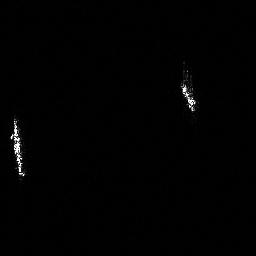ship: (7, 114, 30, 179), (176, 76, 202, 117)
